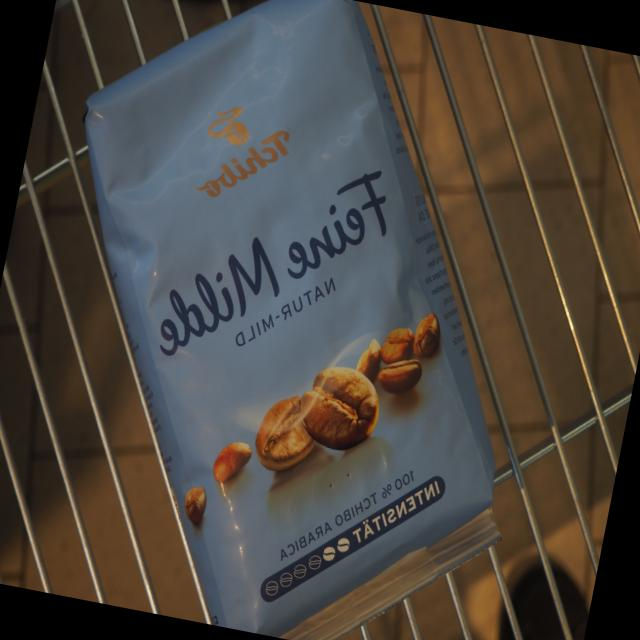FM Bohne: (0, 0, 608, 640)
